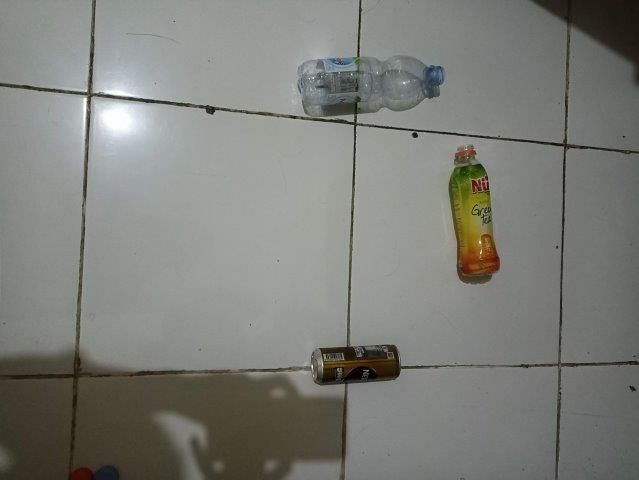botolplastik: (299, 55, 446, 105), (449, 144, 500, 277)
kaleng: (311, 344, 401, 386)
